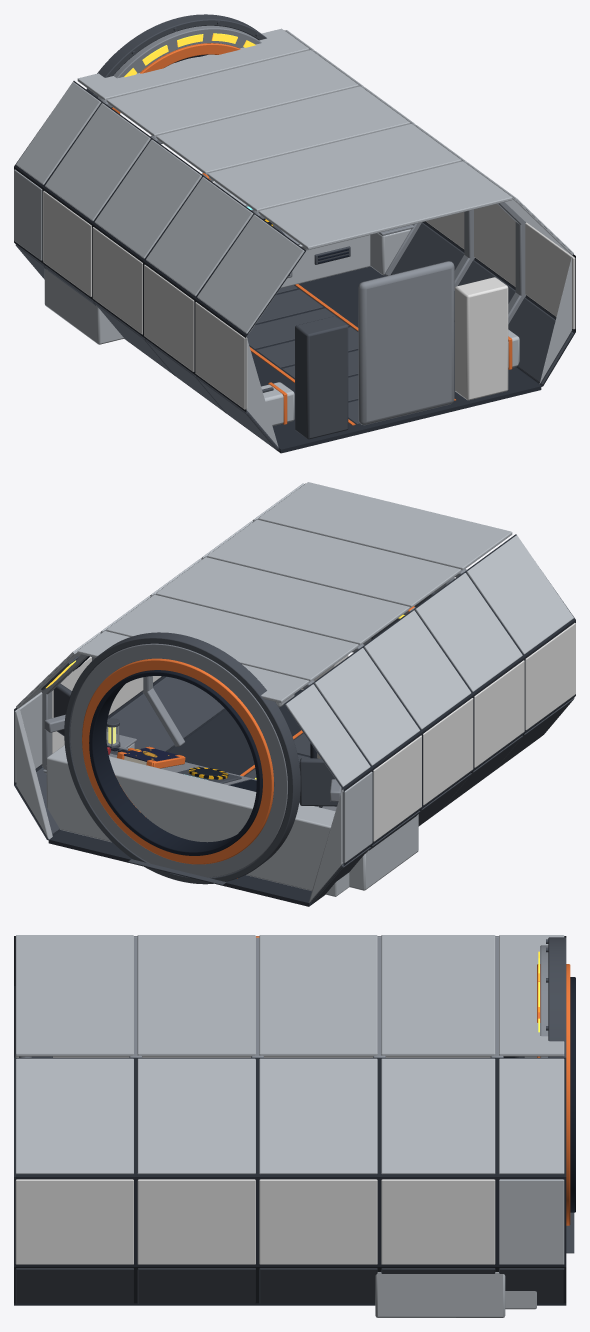
Rendered from cabin-cm01.glb.
3 views of the same model, one above another, from view 1: azimuth 30°, elevation 25°; view 2: azimuth 150°, elevation 25°; view 3: azimuth 270°, elevation 25° (orthographic). The views are drawn at different scales.
Visible parts, largest first — view 1: DOOR_FRAME, HULL_CEIL_0, HULL_CEIL_1, HULL_CEIL_2, HULL_CEIL_3, FLOOR, HULL_P_-1_2_0, HULL_P_-1_2_2, HULL_P_-1_2_1, HULL_P_-1_2_3, LOCKER_1, LOCKER_-1 (+31 smaller); view 2: CONSOLE_BODY, HULL_CEIL_0, HULL_CEIL_1, HULL_CEIL_2, HULL_CEIL_3, WINDOW_BEZEL, WINDOW_BEZEL_OUTER, HULL_P_-1_2_2, HULL_P_-1_2_0, HULL_P_-1_2_1, HULL_P_-1_2_3, WINDOW_INNER_LIP (+25 smaller); view 3: HULL_CEIL_0, HULL_CEIL_2, HULL_CEIL_1, HULL_CEIL_3, HULL_P_1_2_0, HULL_P_1_2_1, HULL_P_1_2_2, HULL_P_1_2_3, HULL_P_1_1_0, HULL_P_1_1_1, HULL_P_1_1_2, HULL_P_1_1_3 (+22 smaller).
Part boxes in pixels (x1,y1,x2,y2): DOOR_FRAME: [358, 261, 454, 425]; HULL_CEIL_0: [258, 161, 512, 249]; HULL_CEIL_1: [207, 124, 461, 211]; HULL_CEIL_2: [156, 86, 409, 173]; HULL_CEIL_3: [106, 50, 358, 136]; FLOOR: [174, 266, 541, 453]; HULL_P_-1_2_0: [197, 214, 304, 334]; HULL_P_-1_2_2: [94, 139, 201, 258]; HULL_P_-1_2_1: [146, 177, 253, 296]; HULL_P_-1_2_3: [45, 103, 150, 220]; LOCKER_1: [455, 277, 508, 400]; LOCKER_-1: [295, 316, 348, 439]; CONSOLE_BODY: [46, 745, 349, 896]; HULL_CEIL_0: [258, 482, 512, 569]; HULL_CEIL_1: [207, 519, 461, 607]; HULL_CEIL_2: [156, 557, 409, 644]; HULL_CEIL_3: [106, 594, 358, 681]; WINDOW_BEZEL: [70, 643, 287, 877]; WINDOW_BEZEL_OUTER: [64, 632, 300, 884]; HULL_P_-1_2_2: [364, 610, 471, 729]; HULL_P_-1_2_0: [466, 535, 573, 654]; HULL_P_-1_2_1: [415, 573, 522, 691]; HULL_P_-1_2_3: [314, 648, 419, 765]; WINDOW_INNER_LIP: [89, 670, 262, 855]; HULL_CEIL_0: [15, 935, 133, 1056]; HULL_CEIL_2: [259, 935, 377, 1056]; HULL_CEIL_1: [137, 935, 255, 1056]; HULL_CEIL_3: [381, 935, 495, 1056]; HULL_P_1_2_0: [15, 1058, 133, 1174]; HULL_P_1_2_1: [137, 1058, 255, 1174]; HULL_P_1_2_2: [259, 1058, 377, 1174]; HULL_P_1_2_3: [381, 1058, 495, 1174]; HULL_P_1_1_0: [15, 1179, 133, 1264]; HULL_P_1_1_1: [137, 1179, 255, 1264]; HULL_P_1_1_2: [259, 1179, 377, 1264]; HULL_P_1_1_3: [381, 1179, 495, 1264].
Size of the model in its own units: 5.6 by 3.88 by 6.92.
